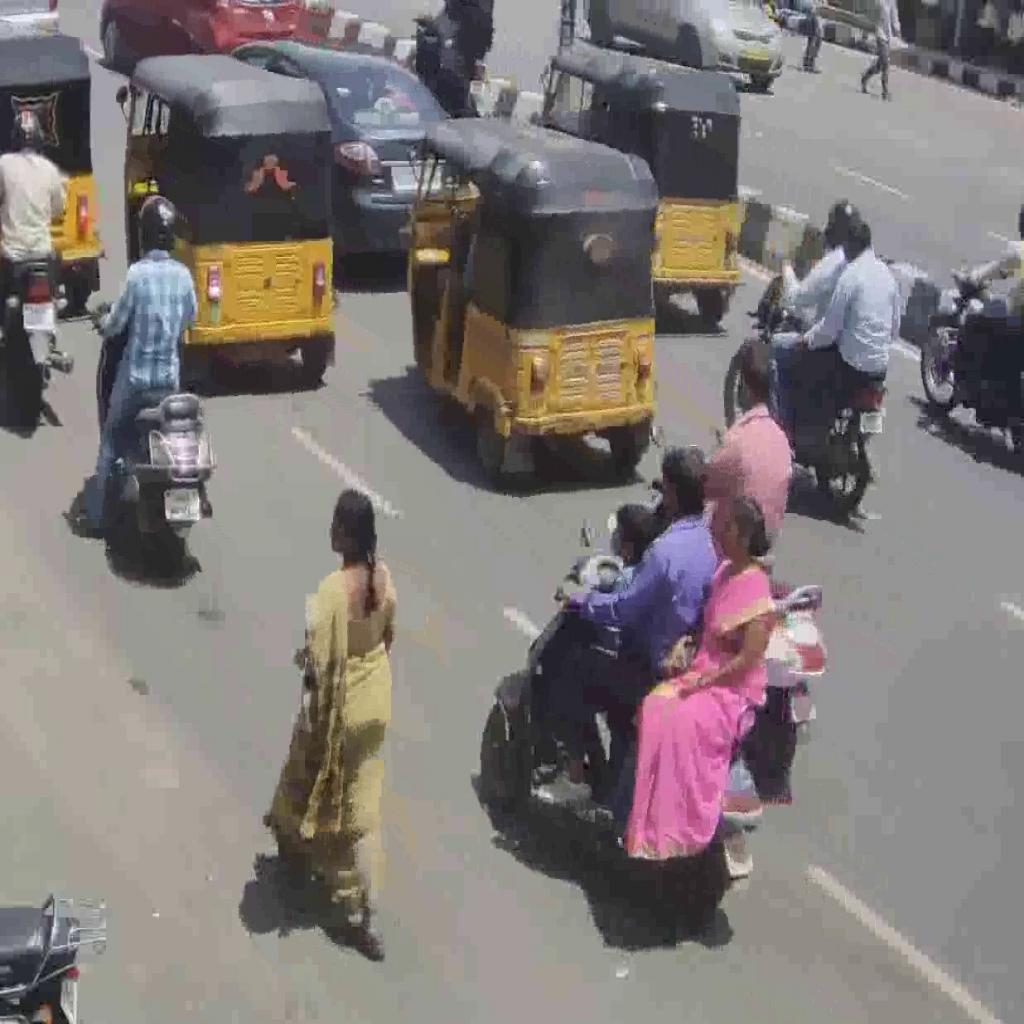bike: (478, 559, 765, 888), (725, 269, 887, 509), (92, 312, 219, 544)
helmet: (134, 192, 180, 262), (818, 197, 858, 246)
lisc: (722, 836, 757, 879), (164, 486, 202, 519), (858, 408, 886, 433)
no_helmet: (715, 488, 773, 576), (658, 443, 708, 530), (846, 218, 877, 262)
rider: (549, 440, 710, 854), (625, 495, 775, 856), (96, 192, 205, 436), (753, 202, 862, 386), (785, 222, 900, 380)
